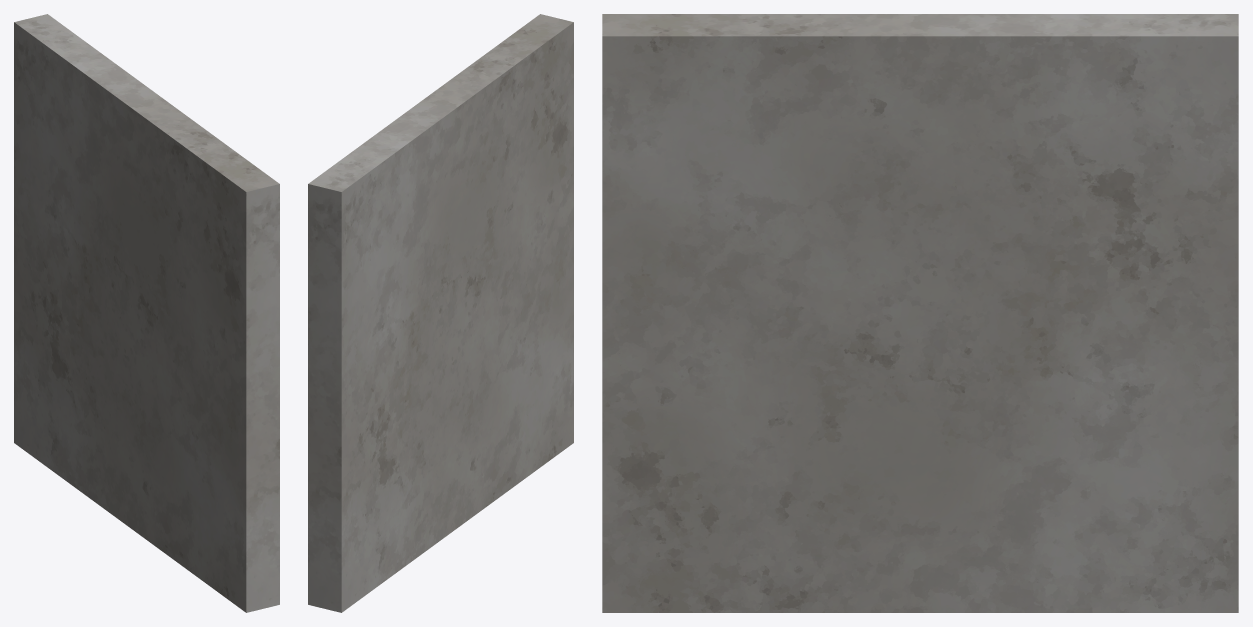
The model's file is SM_Wall_Plaster.fbx.
3 renders of one model, left to right at view 1: azimuth 30°, elevation 25°; view 2: azimuth 150°, elevation 25°; view 3: azimuth 270°, elevation 25°, orthographic. The views are drawn at different scales.
Parts seen in each view (by area): view 1: SM_Wall_Plaster_LOD0; view 2: SM_Wall_Plaster_LOD0; view 3: SM_Wall_Plaster_LOD0.
Part boxes in pixels (x1,y1,x2,y2): SM_Wall_Plaster_LOD0: (14,14,279,612); SM_Wall_Plaster_LOD0: (308,14,573,612); SM_Wall_Plaster_LOD0: (602,14,1238,612).
Size of the model in its own units: 50 by 600 by 600.
1 material, 1 textured.
